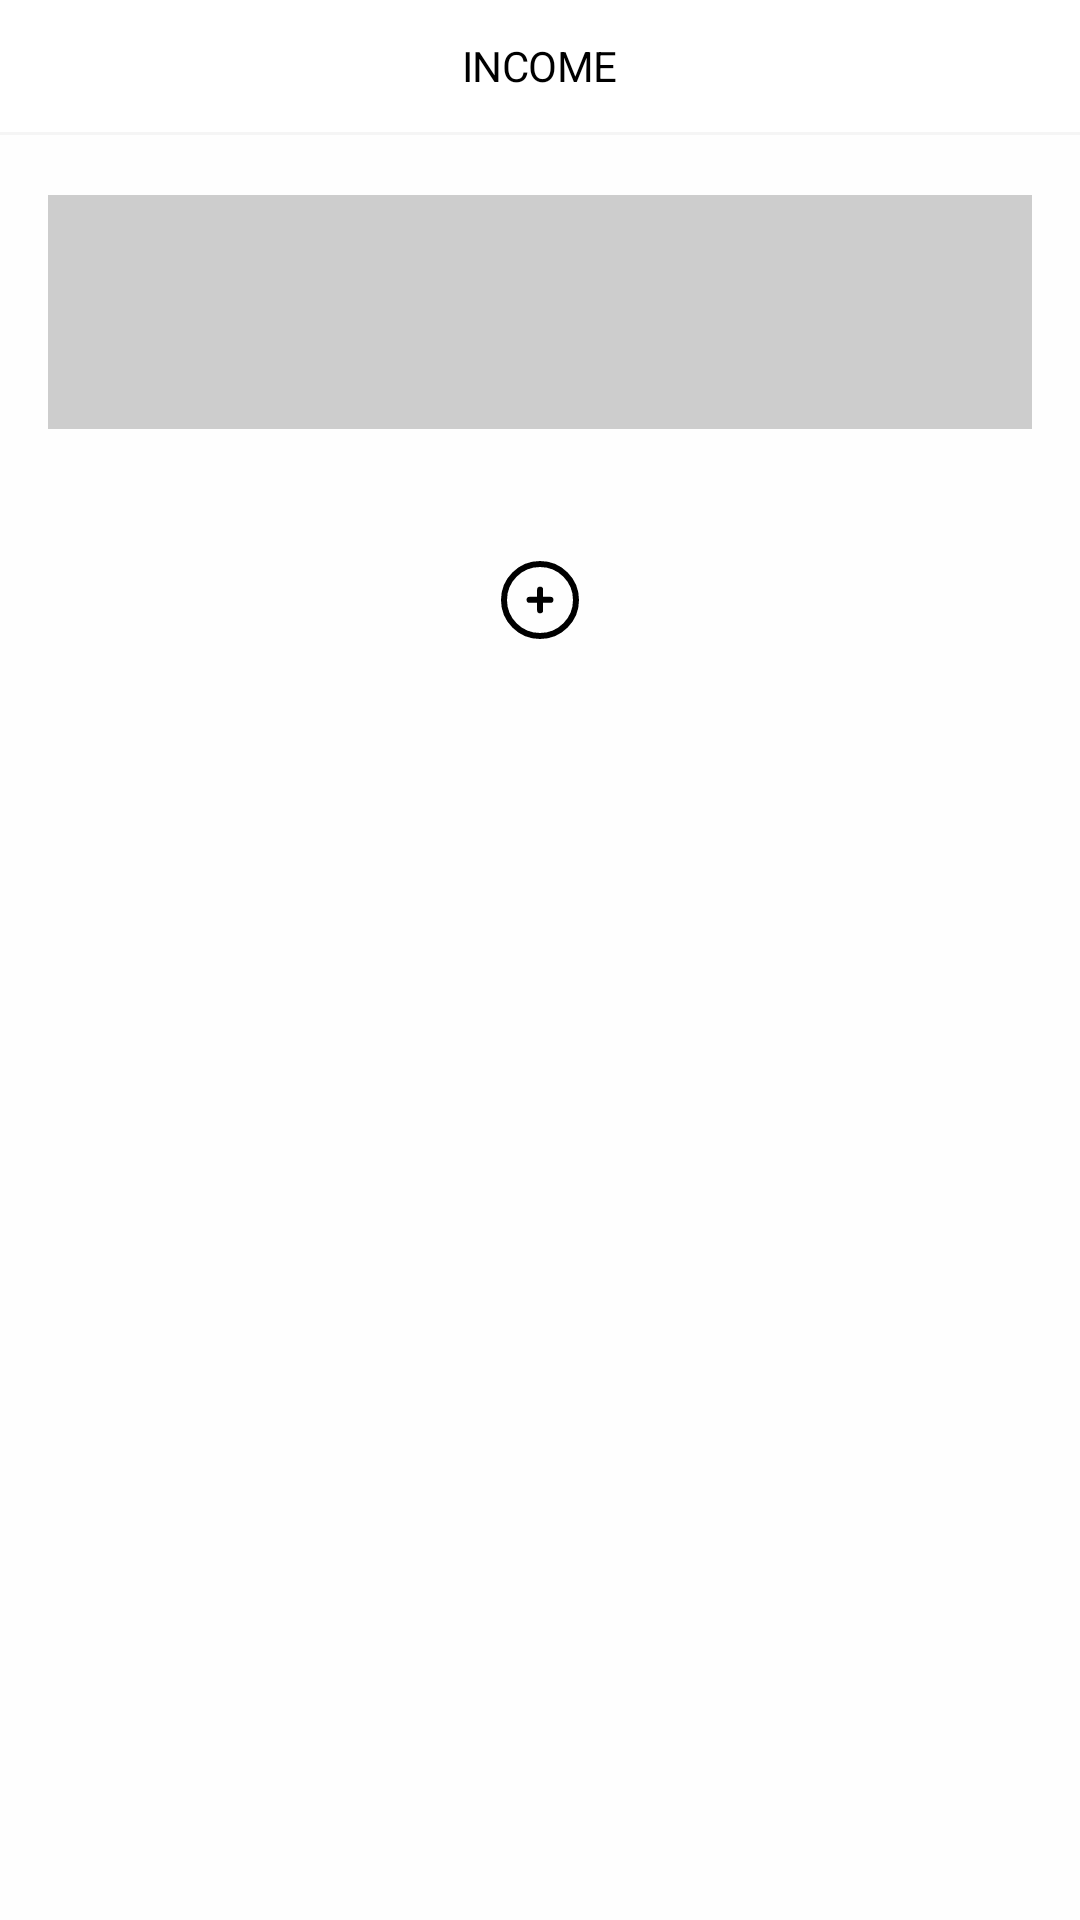

Screen size 1080x1920. Icon name, then its box in pixels as box(x1, y1, x2, y2):
income card add: box(501, 561, 579, 639)
